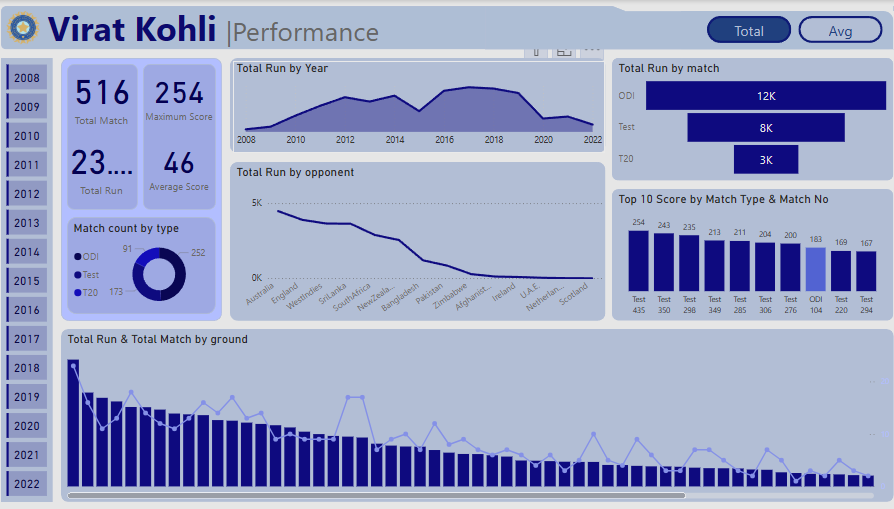

The page's visual inventory and layout, read from the dashboard file:
{"tool":"powerbi","page":{"name":"Page 1","canvas":[1280,720],"ordinal":2},"visuals":[{"type":"shape","box":[0,0,1280.5,720],"z":0},{"type":"shape","box":[332.9,228.6,530,224.3],"z":1000},{"type":"shape","box":[332.9,81.4,530,134.3],"z":2000},{"type":"shape","box":[10,8.6,1260,61.4],"z":3000},{"type":"shape","box":[94.3,464.3,1175.7,244.3],"z":4000},{"type":"shape","box":[94.6,81.9,227.3,371.3],"z":6000},{"type":"shape","box":[102.9,305.7,210,137.1],"z":7000},{"type":"shape","box":[102.9,90,100,205.7],"z":8000},{"type":"card","fields":{"Values":["final.SUM OF RUN"]},"box":[94.3,185.7,114.3,92.9],"z":10000},{"type":"donutChart","title":"Match count by type","fields":{"Category":["final (1).match"],"Y":["CountNonNull(final.Match_No)"]},"box":[107.1,311.4,205.7,131.4],"z":10500},{"type":"card","title":"fff","fields":{"Values":["final.Total Match"]},"box":[94.3,81.4,114.3,104.3],"z":11000},{"type":"shape","box":[9.9,81.9,73.4,626.8],"z":12000},{"type":"shape","box":[210,90,102.9,205.7],"z":13000},{"type":"advancedSlicerVisual","fields":{"Values":["final (1).date.Variation.Date Hierarchy.Year"]},"box":[12.9,85.7,67.1,622.9],"z":14000},{"type":"shape","box":[872.9,81.4,397.1,172.9],"z":15000},{"type":"shape","box":[872.9,267.1,397.1,185.7],"z":18000},{"type":"columnChart","title":"Top 10 Score by Match Type & Match No","fields":{"Category":["final.Match_No","final.top 150 runs"],"Y":["Sum(final.runs)"],"Series":["final.top 150 runs"]},"box":[877.1,271.4,388.6,189],"z":19000},{"type":"card","title":"fff","fields":{"Values":["final.Minimum Score"]},"box":[195.7,81.4,130,104.3],"z":21000},{"type":"card","title":"fff","fields":{"Values":["final.Avg Run"]},"box":[195.7,180,130,104.3],"z":22000},{"type":"textbox","box":[70,1.4,582.9,80],"z":23000},{"type":"lineClusteredColumnComboChart","title":"Avg. Run & Total Match by ground","fields":{"Category":["final (1).ground"],"Y":["final.Avg Run"],"Y2":["final.Total Match"]},"box":[98.6,468.6,1171.4,240],"z":25000},{"type":"areaChart","title":"Avg Run by Year","fields":{"Category":["final.date.Variation.Date Hierarchy.Year"],"Y":["final.Avg Run"]},"box":[337.1,85.7,525.7,130],"z":26000},{"type":"lineChart","title":"Average Run  by opponent","fields":{"Category":["final (1).opponent"],"Y":["Avg(final.runs)"]},"box":[337.1,232.9,525.7,220],"z":27000},{"type":"funnel","title":"Average Run by match","fields":{"Category":["final (1).match"],"Y":["final.Avg Run"]},"box":[878.6,85.7,385.7,168.6],"z":28000},{"type":"image","box":[12.9,8.6,57.1,61.4],"z":30000},{"type":"shape","box":[851.4,0,40,15.7],"z":31000},{"type":"shape","box":[891.4,0,378.6,15.7],"z":32000},{"type":"bookmarkNavigator","box":[1007.1,22.9,248.6,38.6],"z":37000}]}

Visuals, with their boxes in screenshot pixels (x1, y1, x2, y2), scaled from the page's 1280x720 canvas onto the 894x509 screenshot:
shape: 0/0/893/508
shape: 233/162/603/320
shape: 233/58/603/152
shape: 7/6/887/49
shape: 66/328/887/501
shape: 66/58/225/320
shape: 72/216/219/313
shape: 72/64/142/209
card - final.SUM OF RUN: 66/131/146/197
"Match count by type" donutChart: 75/220/218/313
"fff" card: 66/58/146/131
shape: 7/58/58/501
shape: 147/64/219/209
advancedSlicerVisual - final (1).date.Variation.Date Hierarchy.Year: 9/61/56/501
shape: 610/58/887/180
shape: 610/189/887/320
"Top 10 Score by Match Type & Match No" columnChart: 613/192/884/325
"fff" card: 137/58/227/131
"fff" card: 137/127/227/201
textbox: 49/1/456/58
"Avg. Run & Total Match by ground" lineClusteredColumnComboChart: 69/331/887/501
"Avg Run by Year" areaChart: 235/61/603/152
"Average Run  by opponent" lineChart: 235/165/603/320
"Average Run by match" funnel: 614/61/883/180
image: 9/6/49/49
shape: 595/0/623/11
shape: 623/0/887/11
bookmarkNavigator: 703/16/877/43
